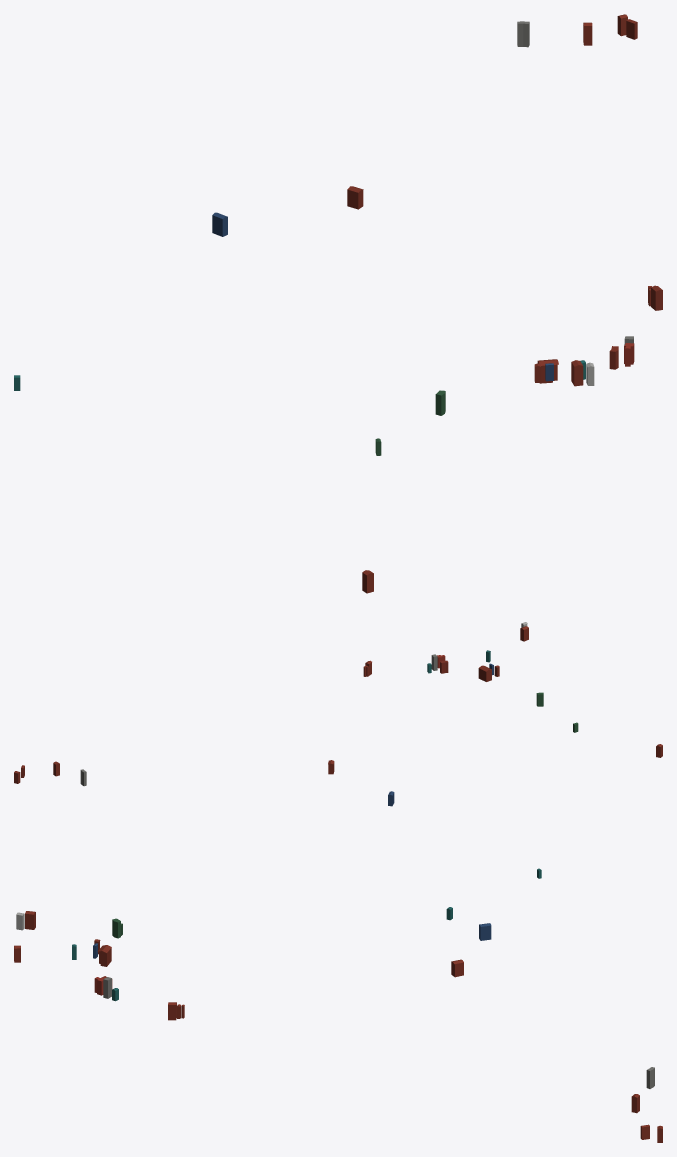
File: near-15-27358-14858.70d6d189.glb
The picture shows the model from 3 angles, top to bottom: view 1: azimuth 30°, elevation 25°; view 2: azimuth 150°, elevation 25°; view 3: azimuth 270°, elevation 25°; orthographic projection. The views are drawn at different scales.
Bounding box in the file's own units: 786 × 172 × 756.
